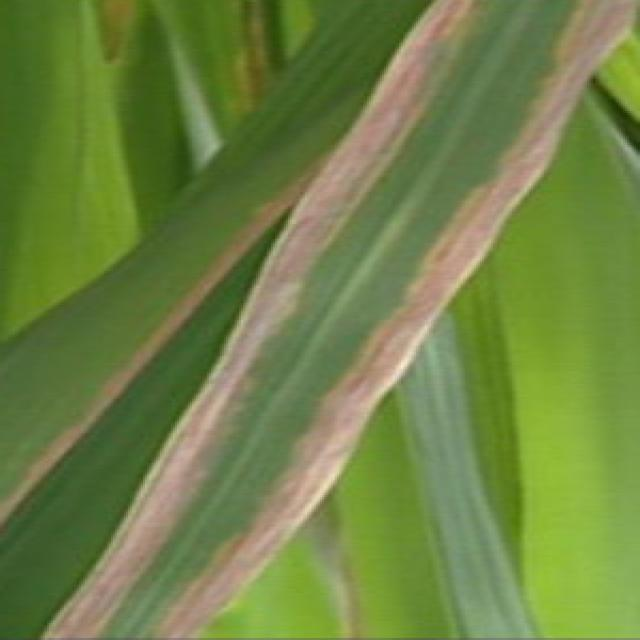Bacterial_Blight: (41, 338, 263, 640), (440, 0, 640, 273), (222, 148, 392, 378), (307, 244, 468, 482), (344, 0, 472, 171), (0, 373, 124, 529), (210, 154, 338, 286), (106, 277, 222, 394)
